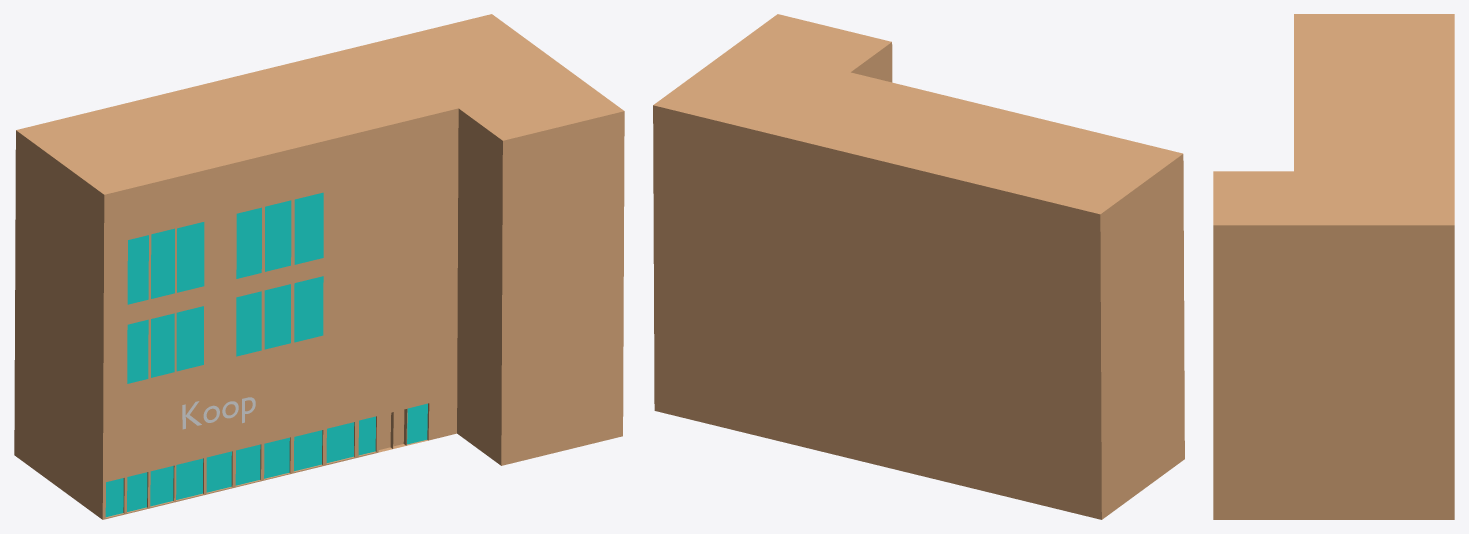
The model's file is Koop.fbx.
The picture shows the model from 3 angles, left to right: view 1: azimuth 30°, elevation 25°; view 2: azimuth 150°, elevation 25°; view 3: azimuth 270°, elevation 25°; orthographic projection. The views are drawn at different scales.
Parts seen in each view (by area): view 1: Plane, Koop; view 2: Plane; view 3: Plane.
Boxes of the visible parts, left/top/right/bottom form: Plane: left=14, top=14, right=624, bottom=519; Koop: left=182, top=397, right=255, bottom=429; Plane: left=653, top=14, right=1184, bottom=519; Plane: left=1213, top=14, right=1454, bottom=519.
Size of the model in its own units: 1401 by 910 by 674.
